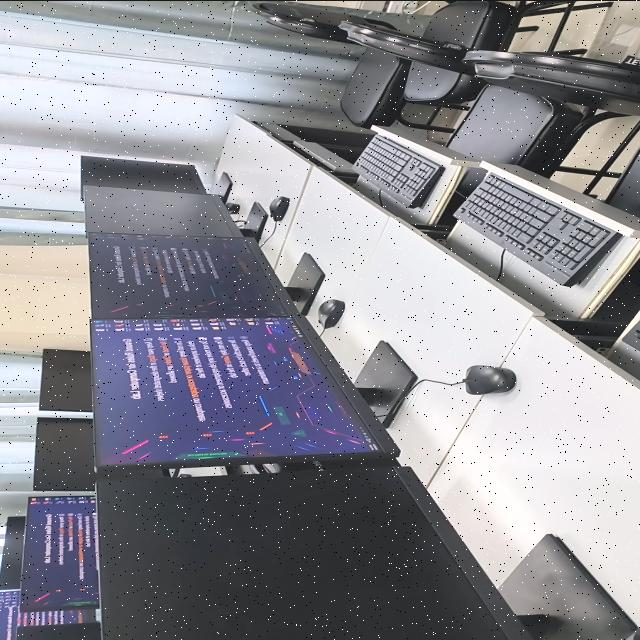Chair: (335, 20, 637, 180), (246, 0, 455, 133), (461, 51, 640, 117), (427, 0, 577, 50), (401, 58, 479, 105), (227, 459, 390, 473), (606, 151, 640, 218)
Keyboard: (455, 171, 623, 285), (355, 133, 443, 207)
Monitor: (97, 465, 637, 640), (91, 314, 416, 469), (90, 233, 324, 316), (34, 417, 177, 490), (86, 185, 267, 239), (18, 495, 99, 611), (80, 155, 232, 202), (0, 589, 96, 640), (40, 349, 92, 411), (0, 515, 25, 588), (17, 621, 101, 640)
Mouse: (463, 364, 516, 394), (318, 298, 345, 327), (269, 196, 289, 221), (225, 202, 240, 213)
